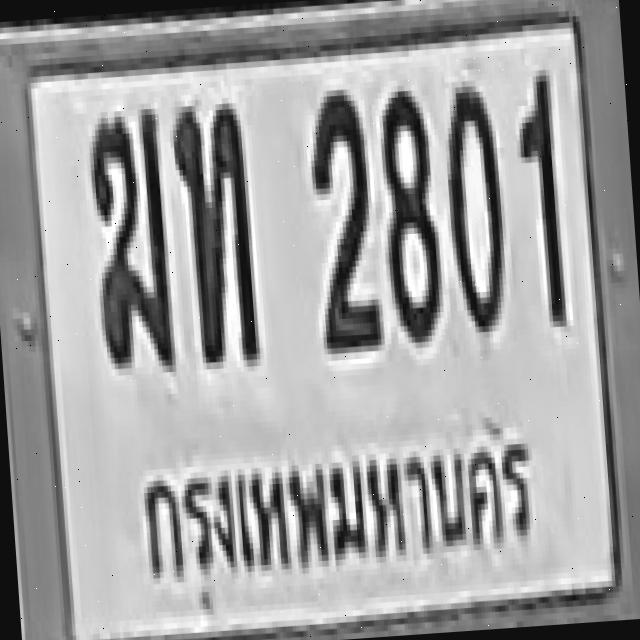0: (438, 79, 509, 334)
1: (512, 72, 566, 326)
15KhorRaKhang: (83, 106, 172, 367)
2: (304, 88, 380, 348)
32ThorThaHan: (170, 96, 256, 364)
8: (374, 84, 442, 338)
Bangkok: (128, 405, 547, 601)
